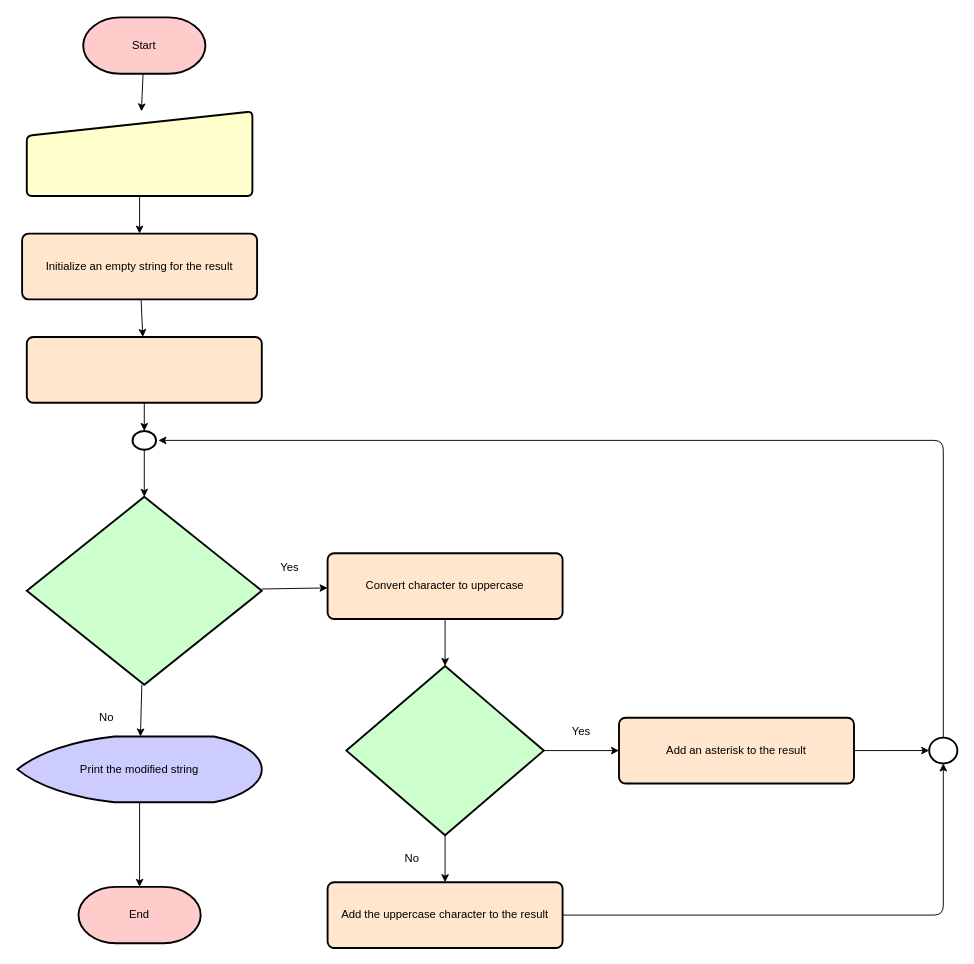
The diagram is 974 pixels wide and 964 high, and some of its shapes have lost their labels. Each missing label, with the box of its shape:
Define vowels as "aeiouAEIOU": (25, 336, 262, 403)
Is character a vowel?: (345, 665, 544, 836)
More chatacters in string?: (25, 495, 262, 685)
Read input string from the user: (25, 110, 253, 196)
